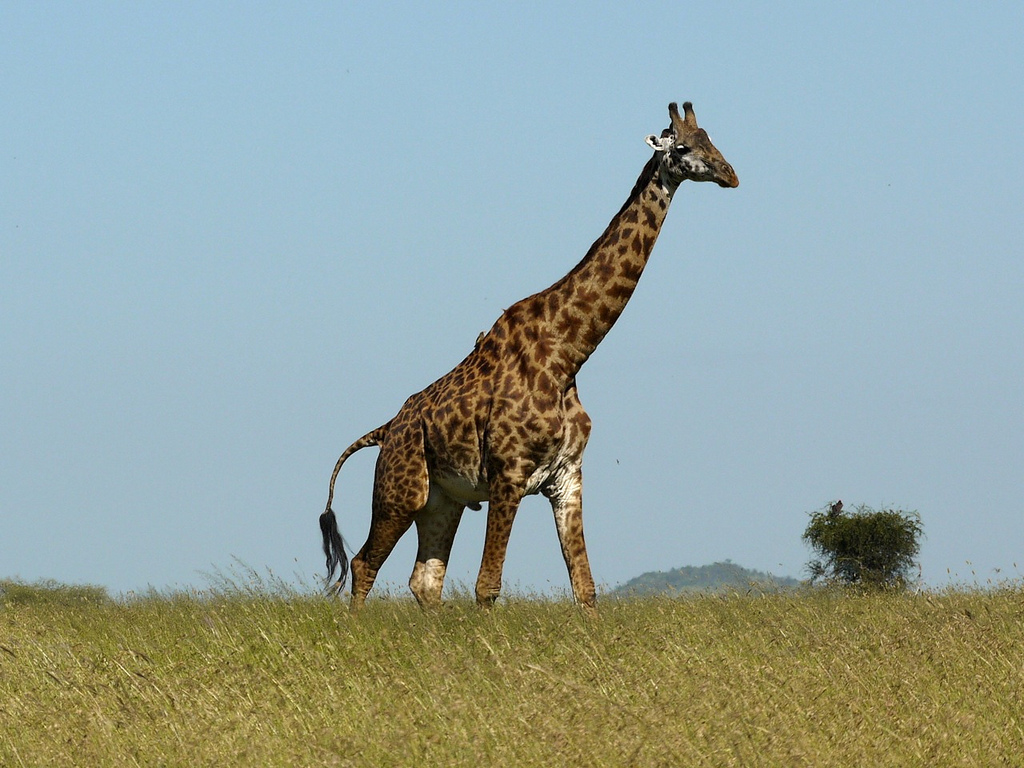giraffe: (323, 88, 772, 631)
